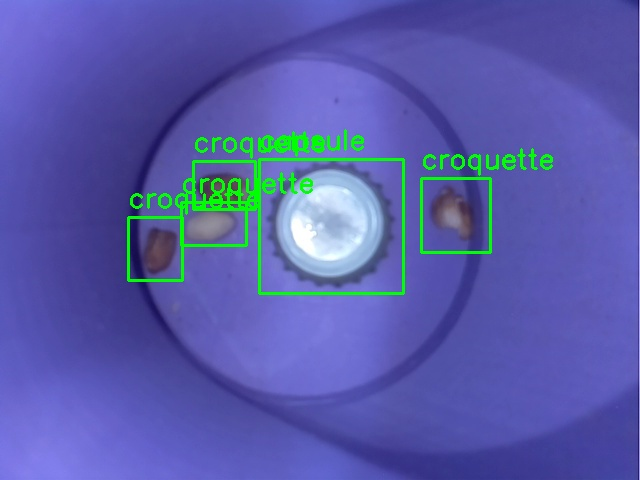capsule: (259, 159, 403, 293)
croquette: (421, 178, 490, 252), (128, 217, 182, 280), (193, 161, 255, 209), (181, 202, 246, 245)
